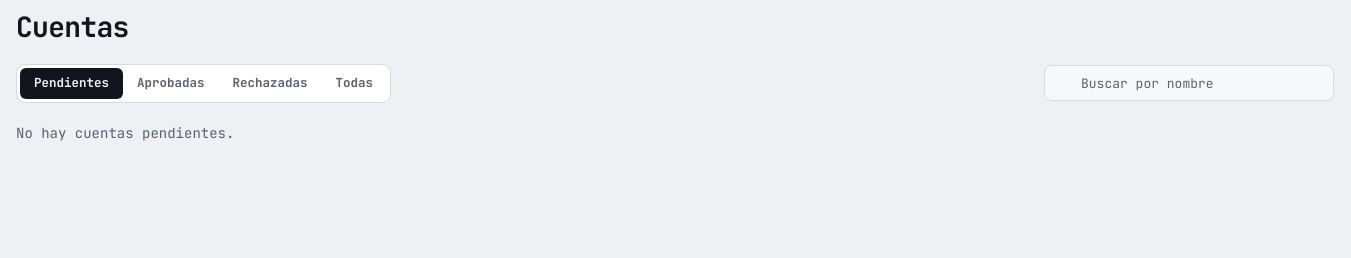
Test: PaginaAdministracion › cambia de lista con los filtros
Expected: the text "No hay cuentas pendientes." is shown, [16,124,234,142]
Click the button "Aprobadas". click: (171, 83)
box: [123,68,218,99]
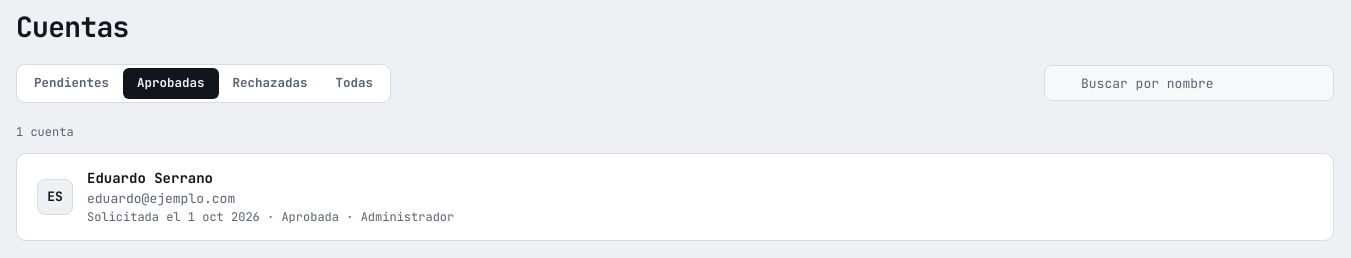
Result: the text "Eduardo Serrano" is shown at [87,168,213,189]
